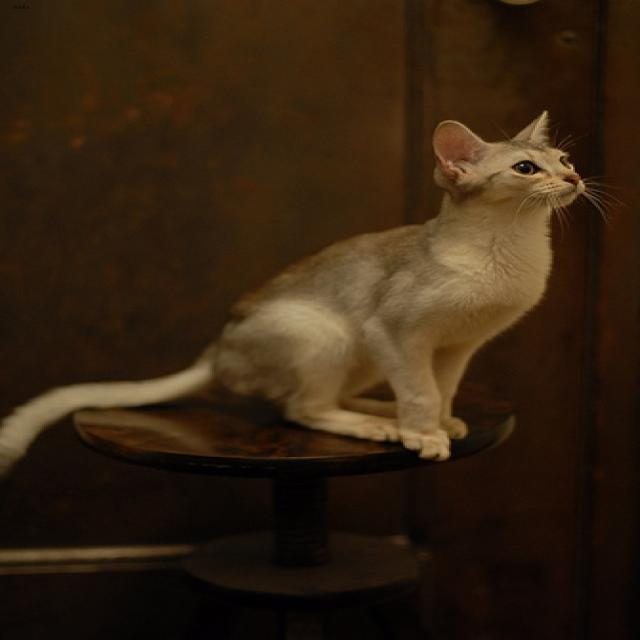Abyssinian: (425, 113, 605, 219)
